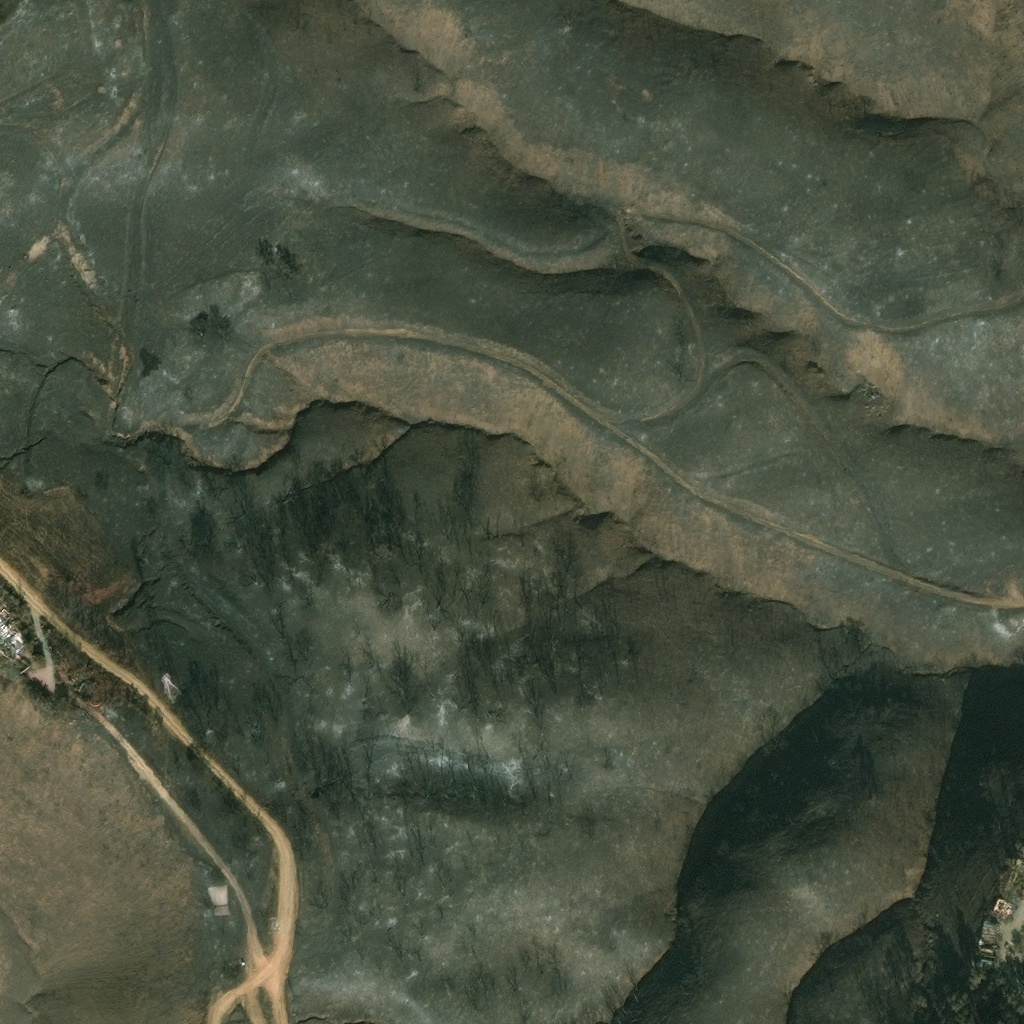1 minor-damage: (991, 895, 1011, 915), (977, 933, 997, 952), (978, 958, 996, 976), (982, 917, 1000, 932)
3 destroyed: (0, 616, 27, 657)
